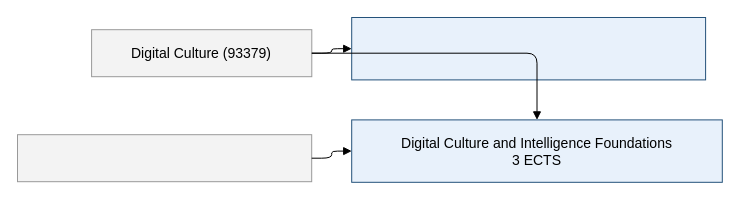
This 740x200 diagram has some shape labels left out. Each missing label, with the centre of its shape:
"Digital Decision Systems and Applications 6 ECTS" belongs at (x=528, y=48).
"Interaction Media Design (B5059)" belongs at (x=164, y=158).
